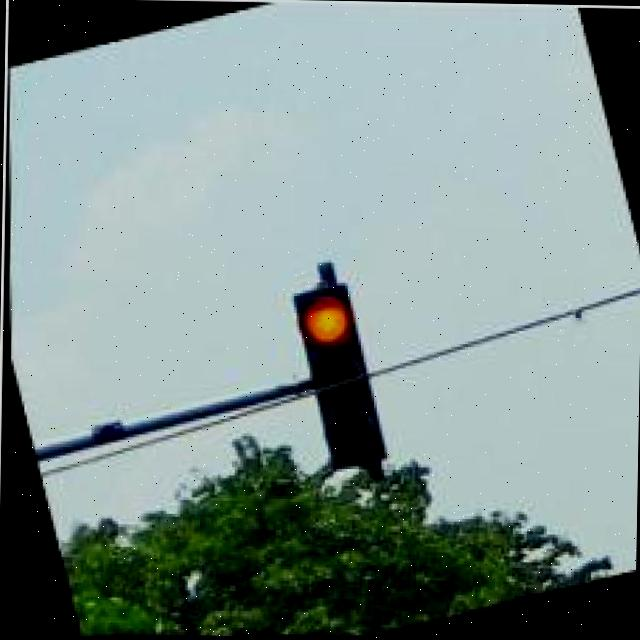red_light: (282, 280, 392, 471)
